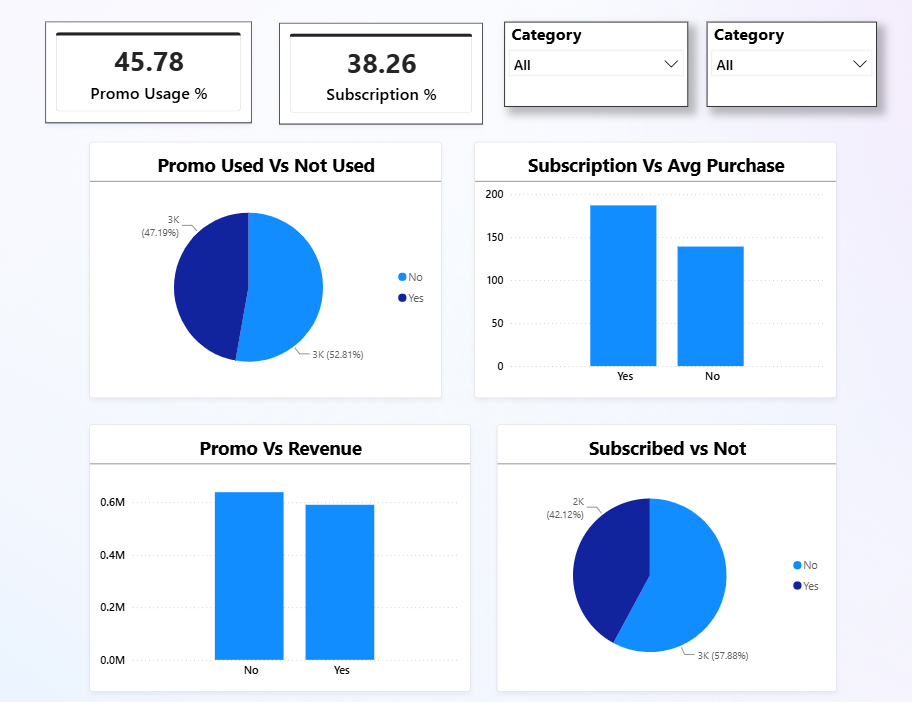

This screenshot's page, from the dashboard's own definition file:
{"tool":"powerbi","page":{"name":"Promo & Subscription","canvas":[1150,900],"ordinal":3},"visuals":[{"type":"cardVisual","fields":{"Data":["Project_Shopping_Trends.Promo Usage %"]},"box":[64.2,29,252.2,123.8],"z":0},{"type":"cardVisual","fields":{"Data":["Project_Shopping_Trends.Subscription %"]},"box":[350,30.6,249.2,123.8],"z":1000},{"type":"pieChart","title":"Promo Used Vs Not Used","fields":{"Category":["Project_Shopping_Trends.Promo_Code_Used"],"Y":["Project_Shopping_Trends.Total Customers"]},"box":[117.7,175.8,431,313.4],"z":2000},{"type":"pieChart","title":"Subscribed vs Not","fields":{"Category":["Project_Shopping_Trends.Subscription_Status"],"Y":["Project_Shopping_Trends.Total Customers"]},"box":[616,521.2,415.8,327.1],"z":3000},{"type":"clusteredColumnChart","title":"Promo Vs Revenue","fields":{"Category":["Project_Shopping_Trends.Promo_Code_Used"],"Y":["Project_Shopping_Trends.Total Revenue"]},"box":[117.7,521.2,466.2,327.1],"z":4000},{"type":"columnChart","title":"Subscription Vs Avg Purchase","fields":{"Category":["Project_Shopping_Trends.Subscription_Status"],"Y":["Project_Shopping_Trends.Avg Purchase"]},"box":[588.5,175.8,443.3,313.4],"z":5000},{"type":"slicer","fields":{"Values":["Project_Shopping_Trends.Category"]},"box":[872.8,29,207.9,103.9],"z":6000},{"type":"slicer","fields":{"Values":["Project_Shopping_Trends.Category"]},"box":[625.2,29,224.7,103.9],"z":7000}]}

Visuals, with their boxes in screenshot pixels (x1, y1, x2, y2), scaled from the page's 1150x900 canvas onto the 912x702 screenshot:
cardVisual - Project_Shopping_Trends.Promo Usage %: rect(51, 23, 251, 119)
cardVisual - Project_Shopping_Trends.Subscription %: rect(278, 24, 475, 120)
"Promo Used Vs Not Used" pieChart: rect(93, 137, 435, 382)
"Subscribed vs Not" pieChart: rect(489, 407, 818, 662)
"Promo Vs Revenue" clusteredColumnChart: rect(93, 407, 463, 662)
"Subscription Vs Avg Purchase" columnChart: rect(467, 137, 818, 382)
slicer - Project_Shopping_Trends.Category: rect(692, 23, 857, 104)
slicer - Project_Shopping_Trends.Category: rect(496, 23, 674, 104)
